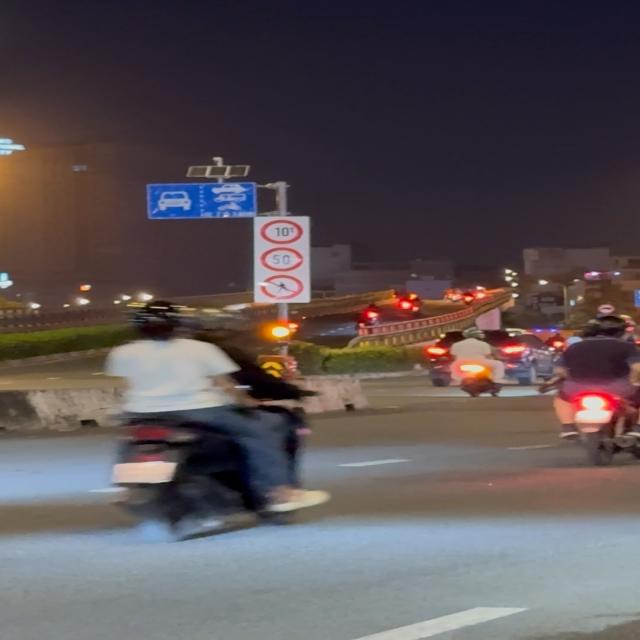Bien bao cam nguoi di bo: (258, 274, 306, 300)
Bien bao toc do toi da cho phep: (259, 246, 309, 272)
